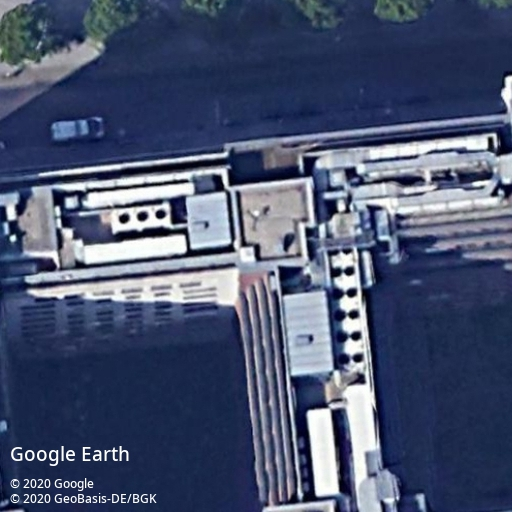Chiller: (328, 254, 368, 372), (110, 202, 172, 234)
